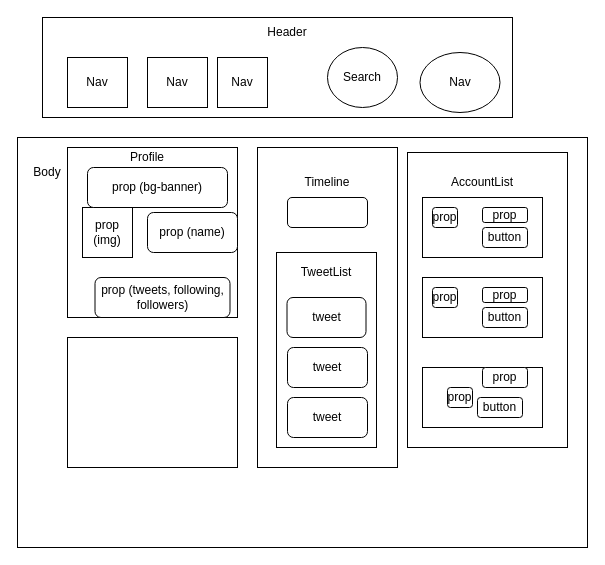
Image size: 605x565. Some labels were removed from this diagram. Each missing label, with the centre of its shape:
"Form" goes at point (327, 212).
"Location Trends" goes at point (152, 402).
